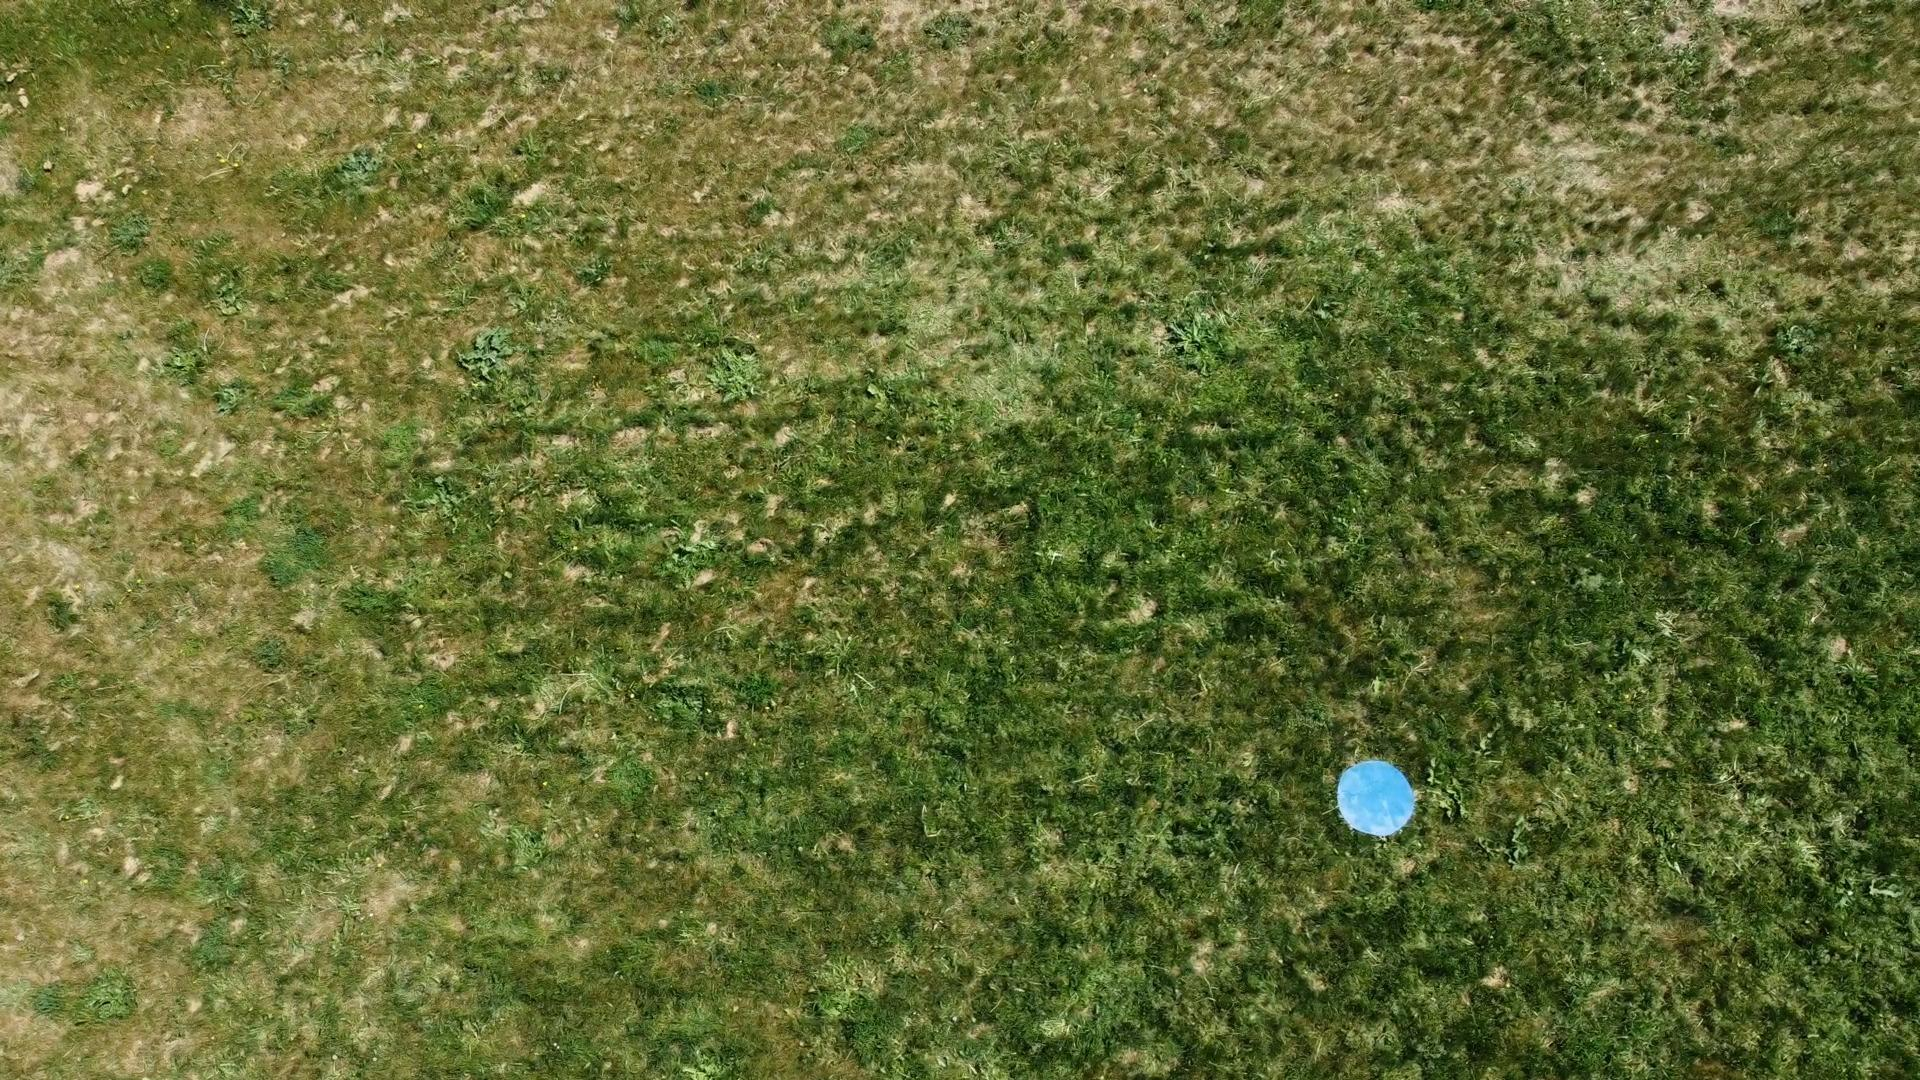Blue: (1333, 758, 1419, 841)
